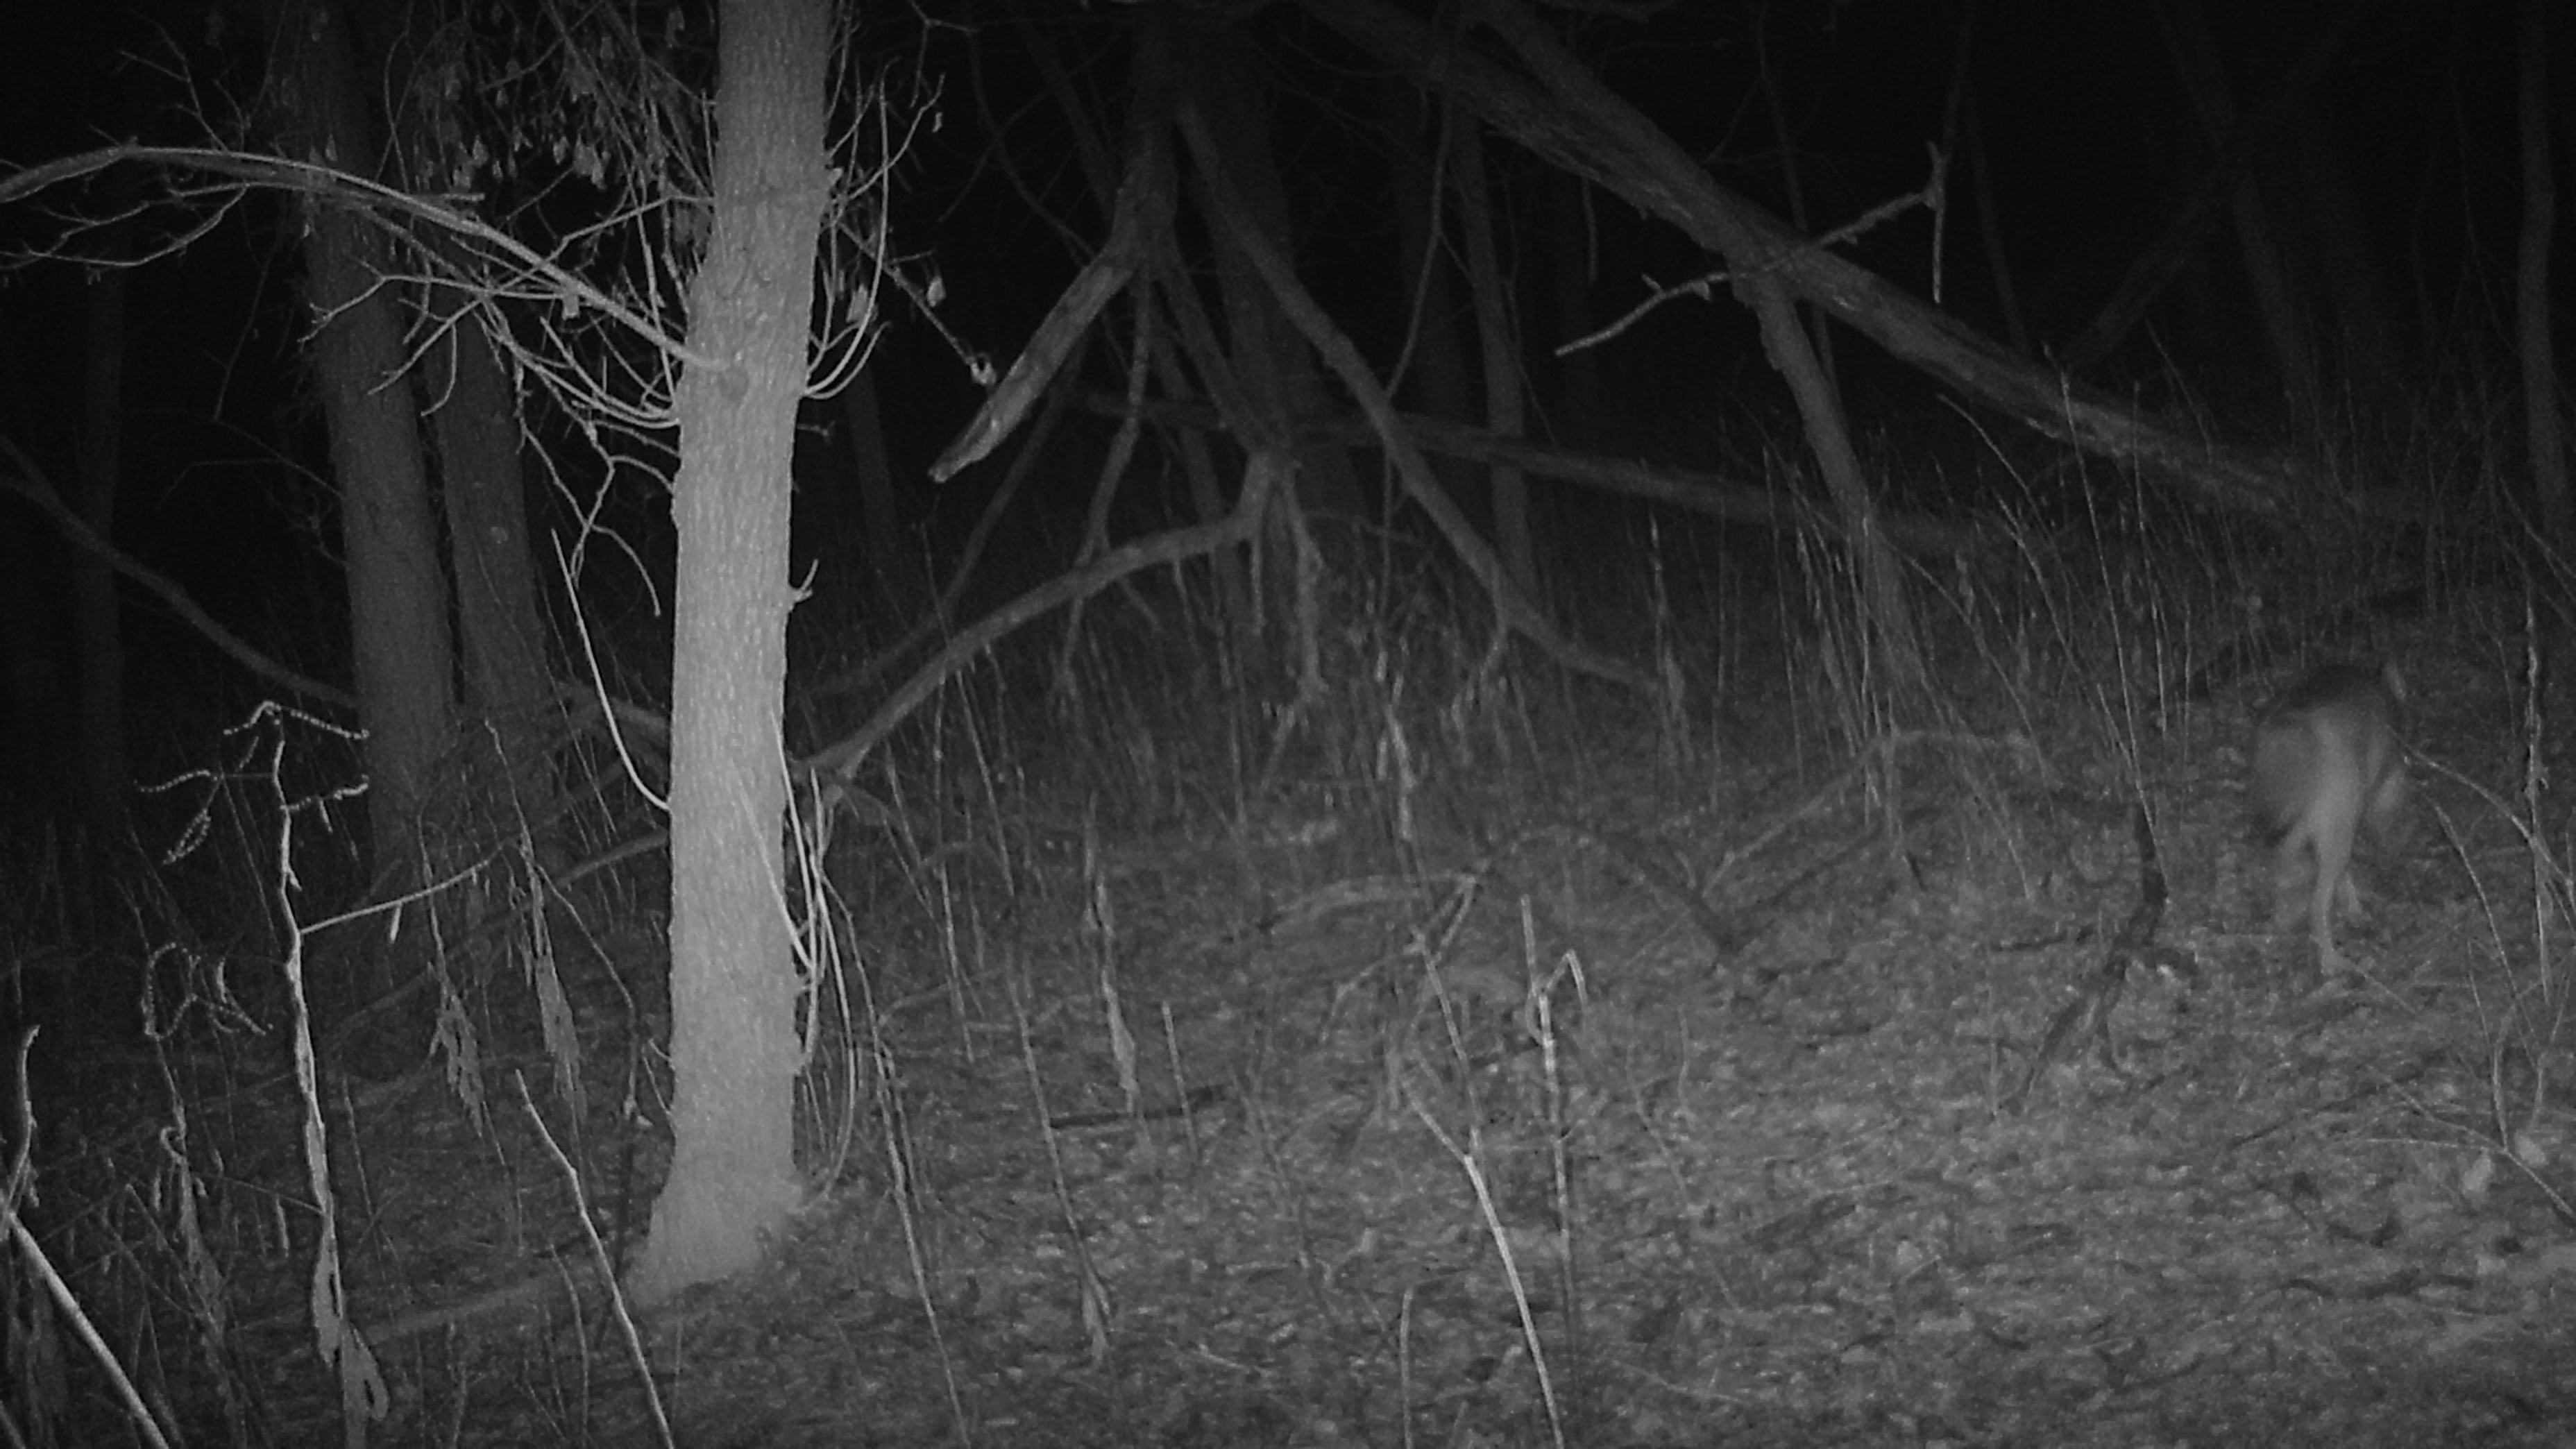Coyote: (2243, 651, 2419, 971)
